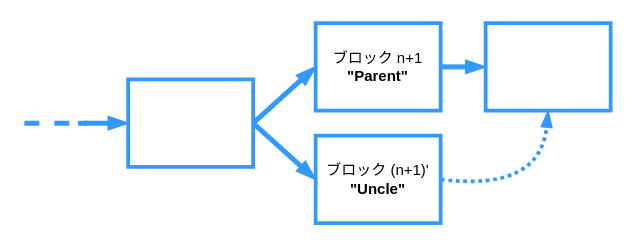
Image size: 634x246. Some labels were removed from this diagram. Here are the shapes that lost their labels. From the top down, the centre of each, then its label:
point 547,66: ブロック n+2 "Me"
point 190,122: ブロック n
